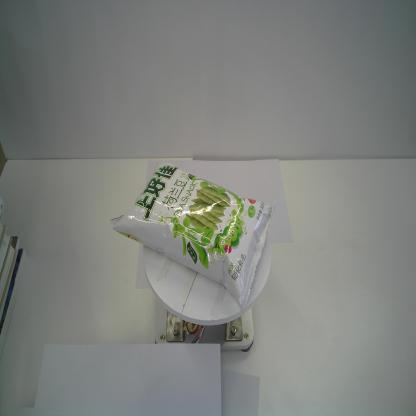Puffed Food: (110, 160, 275, 312)
